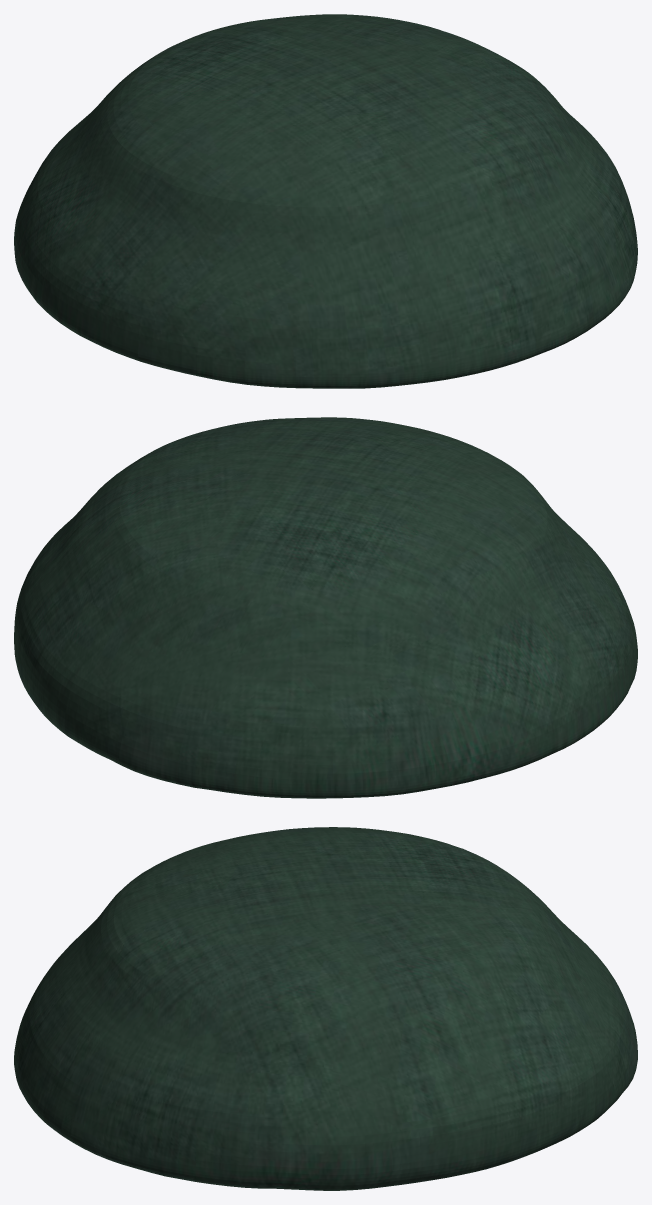
Rendered from topFabric.gltf.
3 renders of one model, top to bottom at view 1: azimuth 30°, elevation 25°; view 2: azimuth 150°, elevation 25°; view 3: azimuth 270°, elevation 25°, orthographic. The views are drawn at different scales.
Visible parts, largest first — view 1: Retopo_middle-top.002; view 2: Retopo_middle-top.002; view 3: Retopo_middle-top.002.
Part boxes in pixels (bbox=[...]): Retopo_middle-top.002: bbox=[14, 14, 637, 388]; Retopo_middle-top.002: bbox=[14, 417, 637, 798]; Retopo_middle-top.002: bbox=[14, 827, 637, 1190].
Bounding box in the file's own units: 4.27 × 1.47 × 4.33.
1 material, 1 textured.
